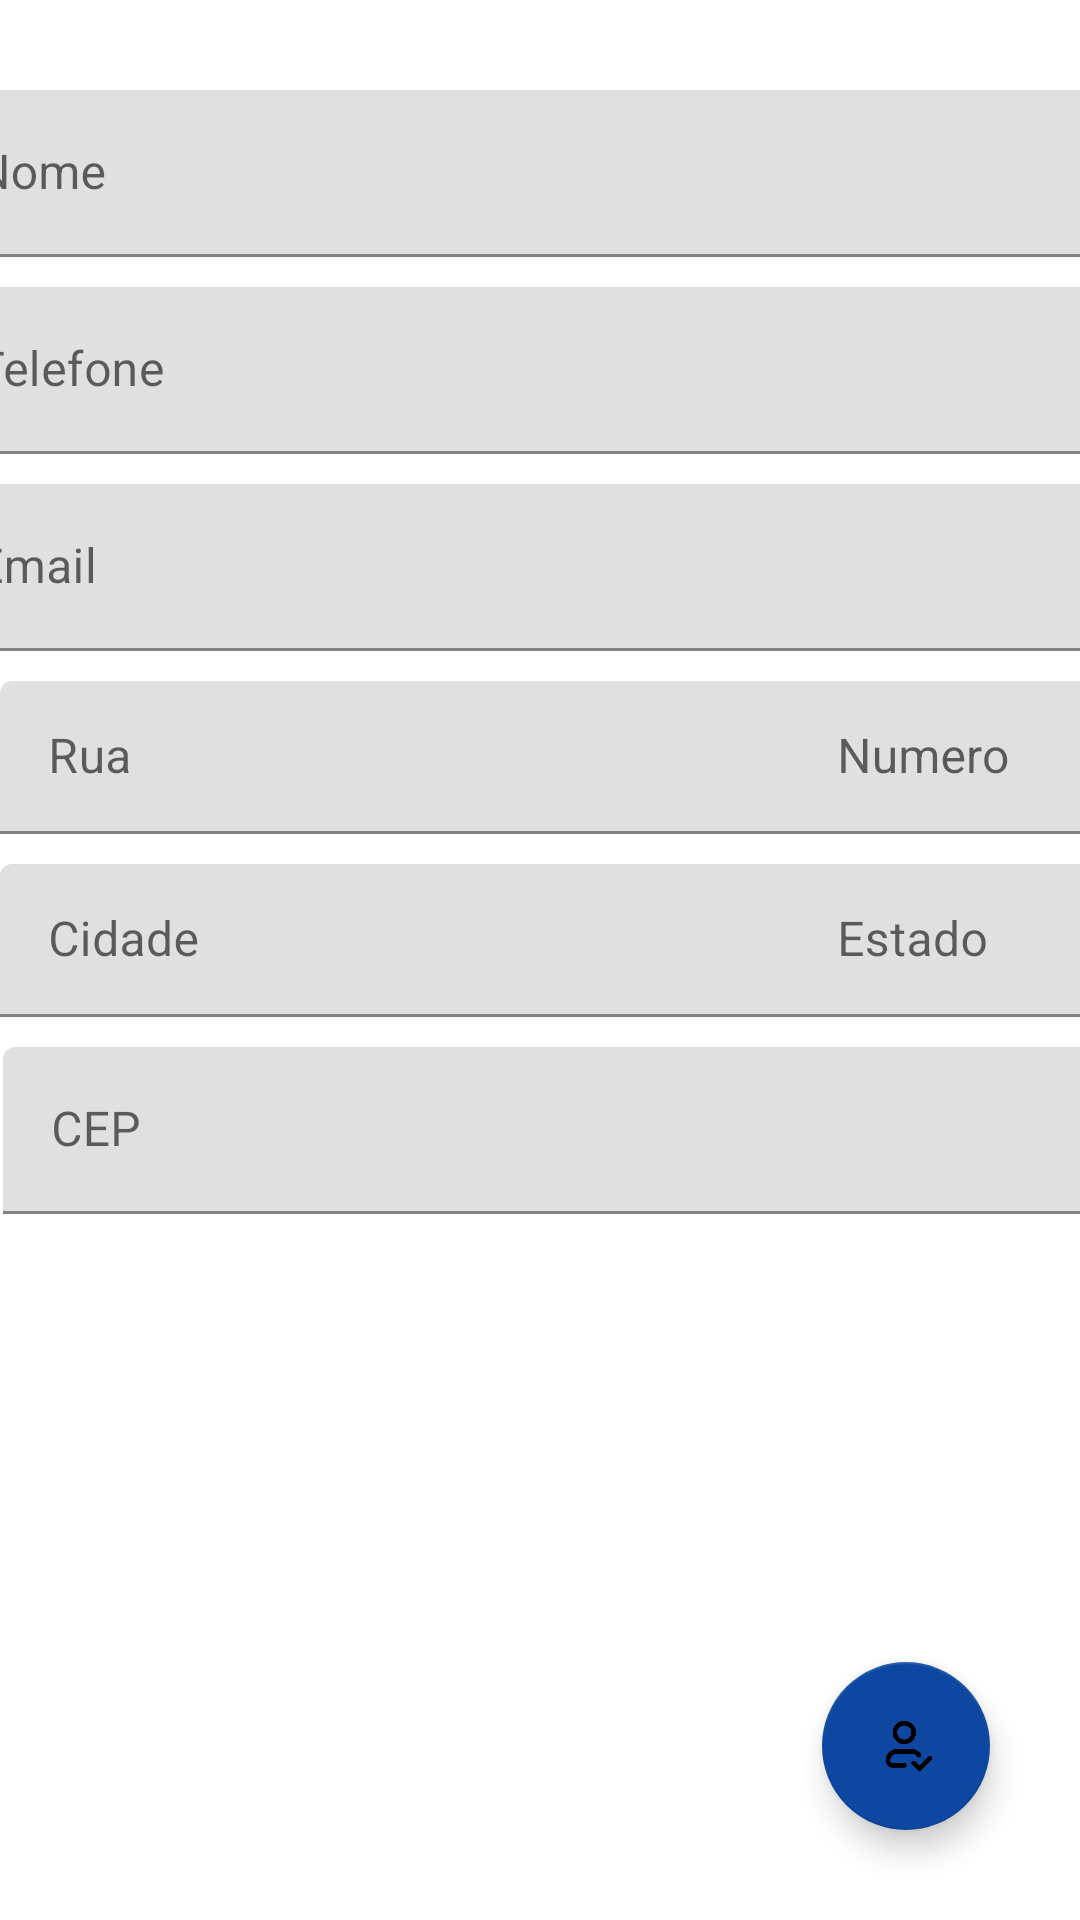

Icons on this 1080 x 1920 Android screen, each with the point to tap as (x=x, y=y):
save contact: (x=906, y=1746)
